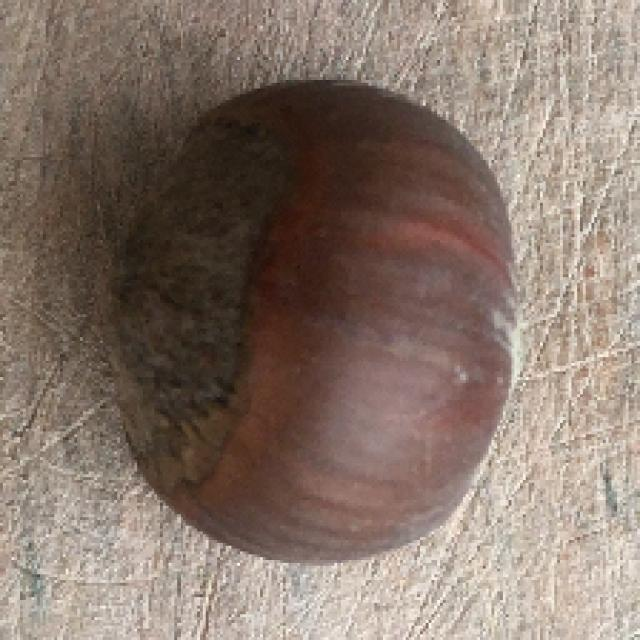damagedHazelnut: (90, 71, 519, 562)
